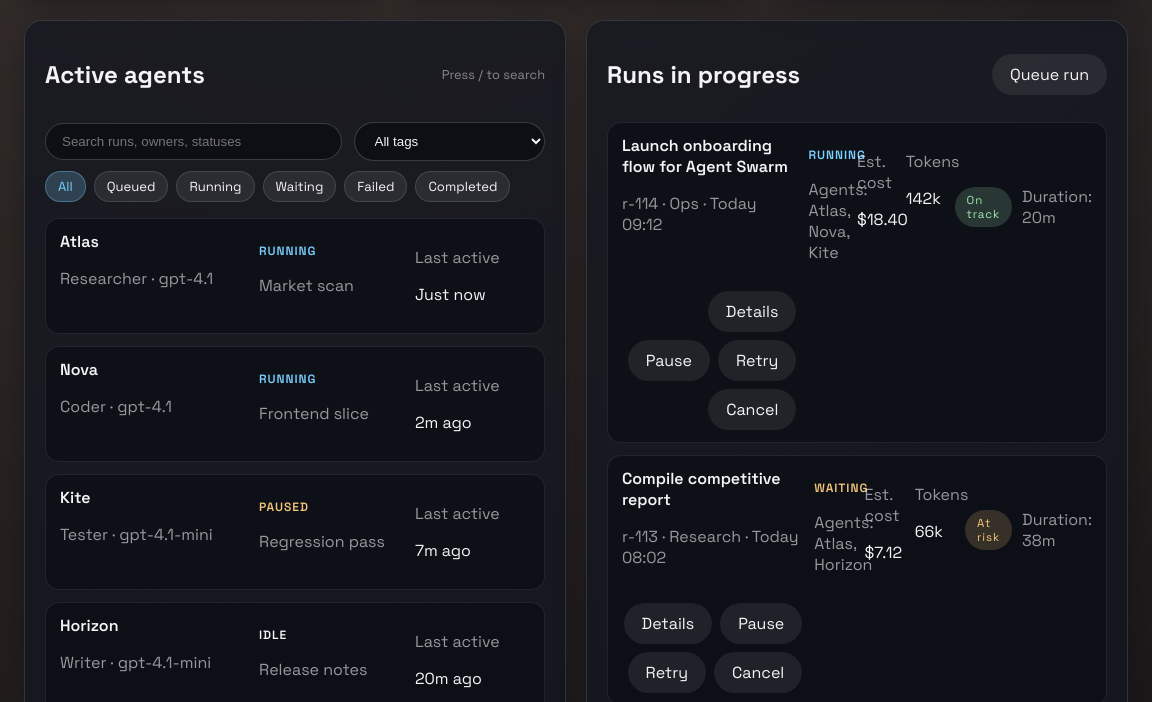
Test: confirms run actions via toast and updates status
(page scrolled)
Click the button "Pause" below "$18.40".
click(669, 360)  # box [628, 340, 710, 381]
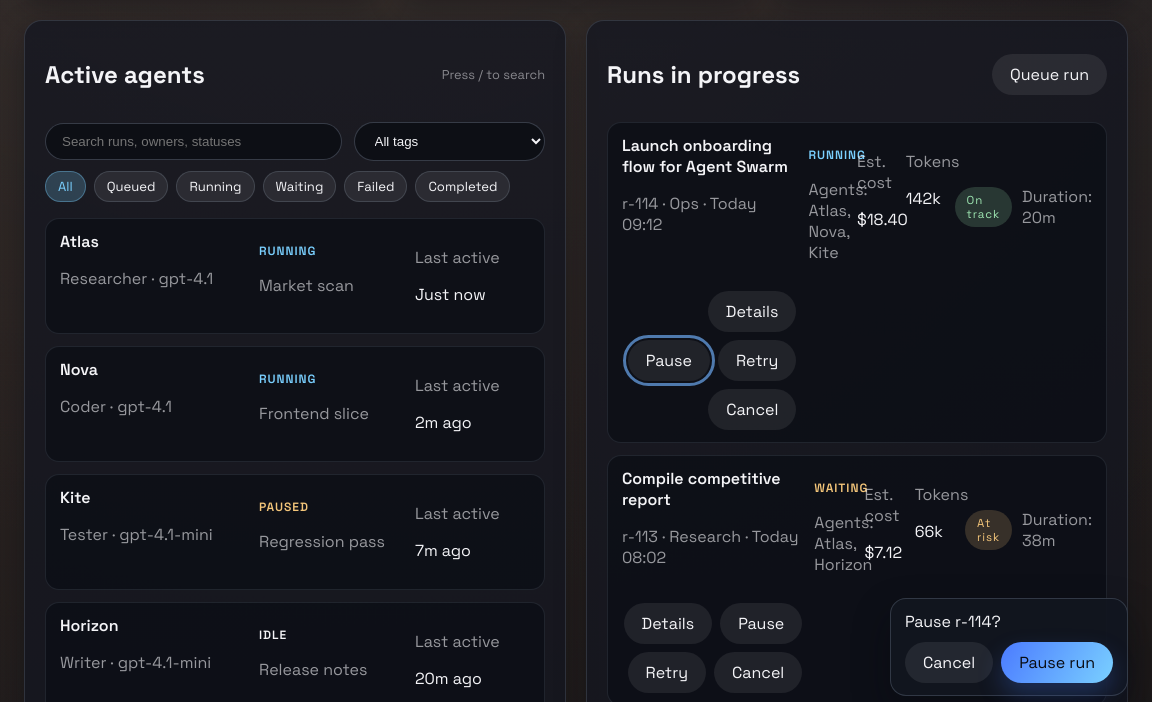
Click the button "Pause run".
click(1057, 662)  # box [1001, 642, 1113, 683]
(page scrolled)
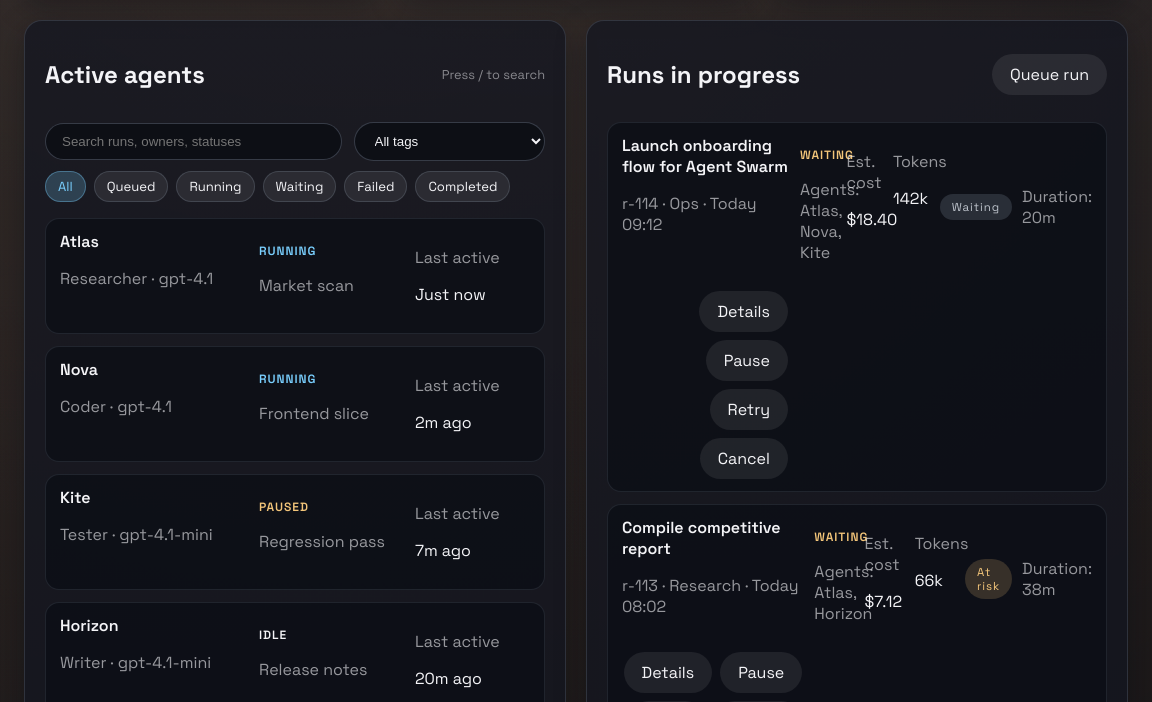
Expected: the text "r-114" is shown, [622, 193, 658, 214]
Expected: the 1st text with class "status" reads "Waiting", [800, 147, 854, 163]
